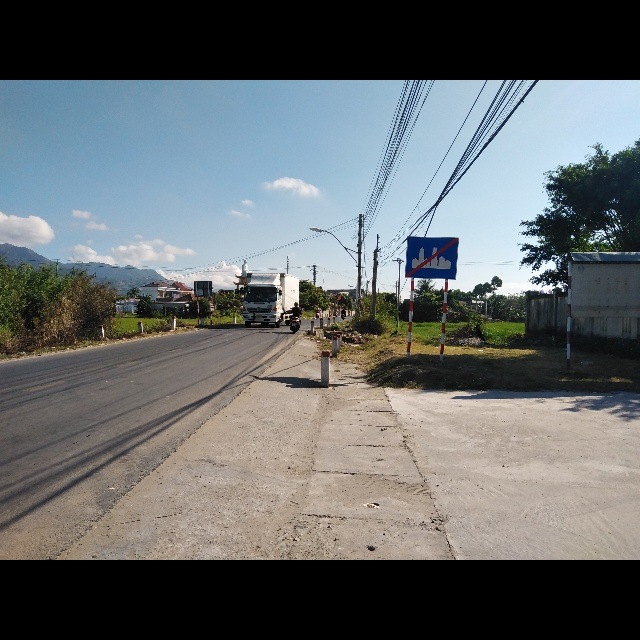Hết khu đông dân cư: (407, 235, 460, 278)
